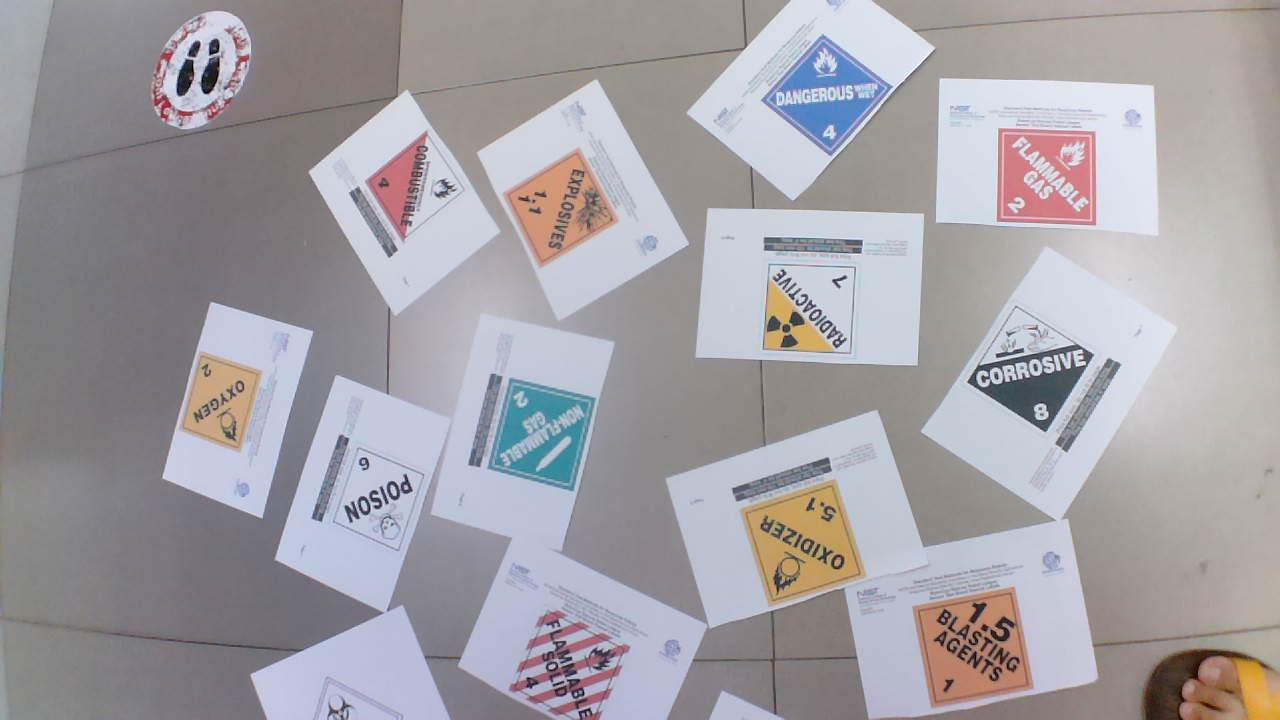corrosive: (959, 304, 1101, 439)
dangerous-when-wet: (767, 34, 893, 153)
explosive: (913, 586, 1039, 712), (506, 144, 622, 266)
flammable: (987, 123, 1105, 227)
flammable-solid: (507, 604, 630, 720)
infectious-substance: (303, 674, 413, 720)
non-flammable-gas: (484, 377, 603, 490)
oxidizer: (739, 480, 868, 603), (170, 354, 268, 454)
poison: (327, 447, 433, 556)
radioactive: (759, 254, 870, 368)
spontaneously-combustible: (359, 127, 466, 238)
